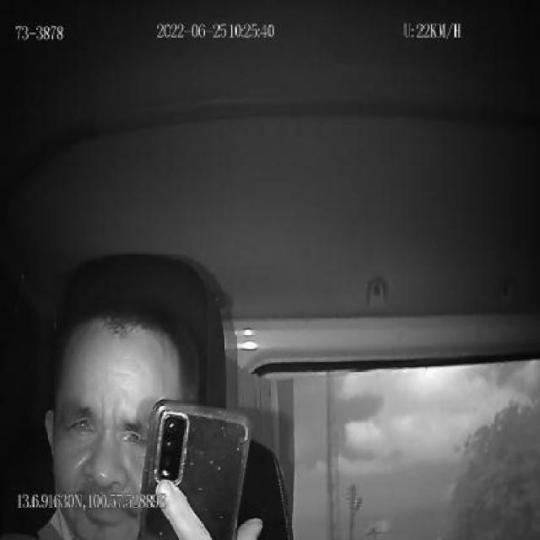phone: (138, 400, 252, 540)
